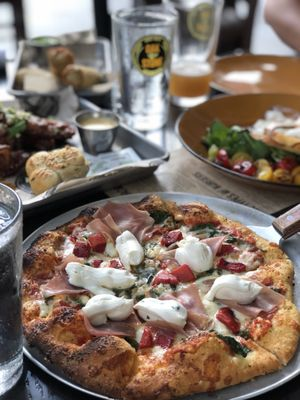pizza: (112, 7, 179, 132), (163, 0, 226, 108), (0, 181, 25, 397), (75, 111, 119, 156)
sushi: (173, 92, 300, 215)
